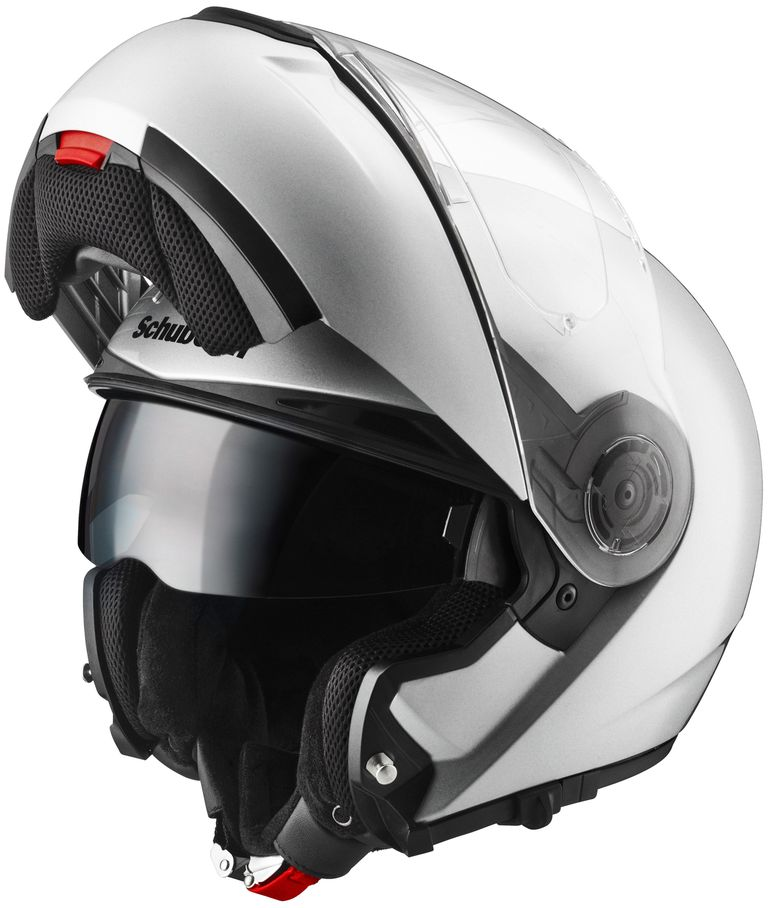with_helmet: (5, 4, 762, 888)
